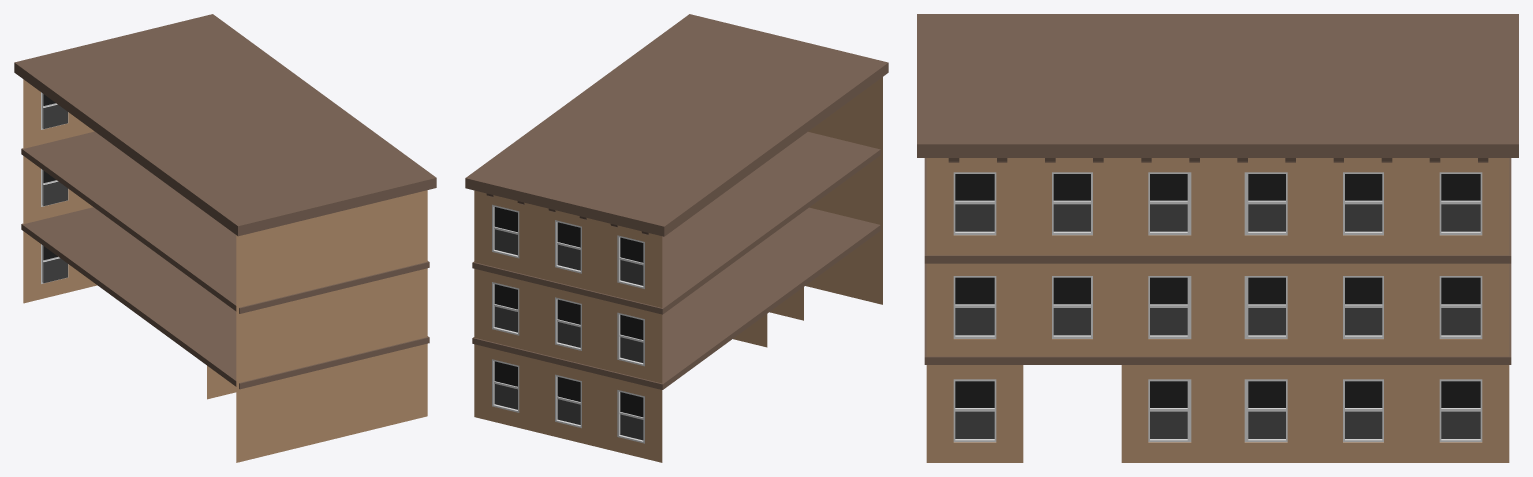
Rendered from house1.glb.
3 renders of one model, left to right at view 1: azimuth 30°, elevation 25°; view 2: azimuth 150°, elevation 25°; view 3: azimuth 270°, elevation 25°, orthographic. The views are drawn at different scales.
Visible parts, largest first — view 1: Cube.003; view 2: Cube.003; view 3: Cube.003.
Part boxes in pixels (left/top/right/bottom): Cube.003: left=14, top=14, right=436, bottom=462; Cube.003: left=465, top=14, right=888, bottom=462; Cube.003: left=917, top=14, right=1518, bottom=462.
Bounding box in the file's own units: 10.78 × 12.44 × 21.05.
